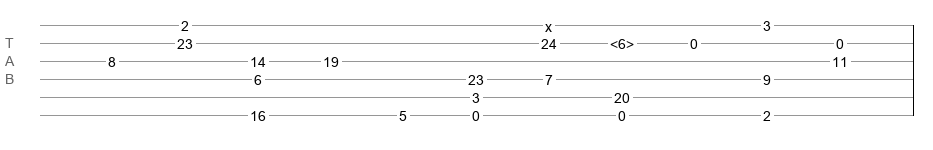0: (472, 108, 480, 118), (618, 108, 626, 118), (690, 36, 698, 46), (836, 36, 844, 46)
11: (832, 54, 848, 64)
14: (250, 54, 266, 64)
16: (250, 108, 266, 118)
19: (323, 54, 339, 64)
2: (181, 18, 189, 28), (763, 108, 771, 118)
20: (614, 90, 630, 100)
23: (177, 36, 193, 46), (468, 72, 484, 82)
24: (541, 36, 557, 46)
3: (472, 90, 480, 100), (763, 18, 771, 28)
5: (399, 108, 407, 118)
6: (254, 72, 262, 82)
7: (545, 72, 553, 82)
8: (108, 54, 116, 64)
9: (763, 72, 771, 82)
harmonic: (610, 36, 634, 46)
x: (545, 19, 552, 27)
